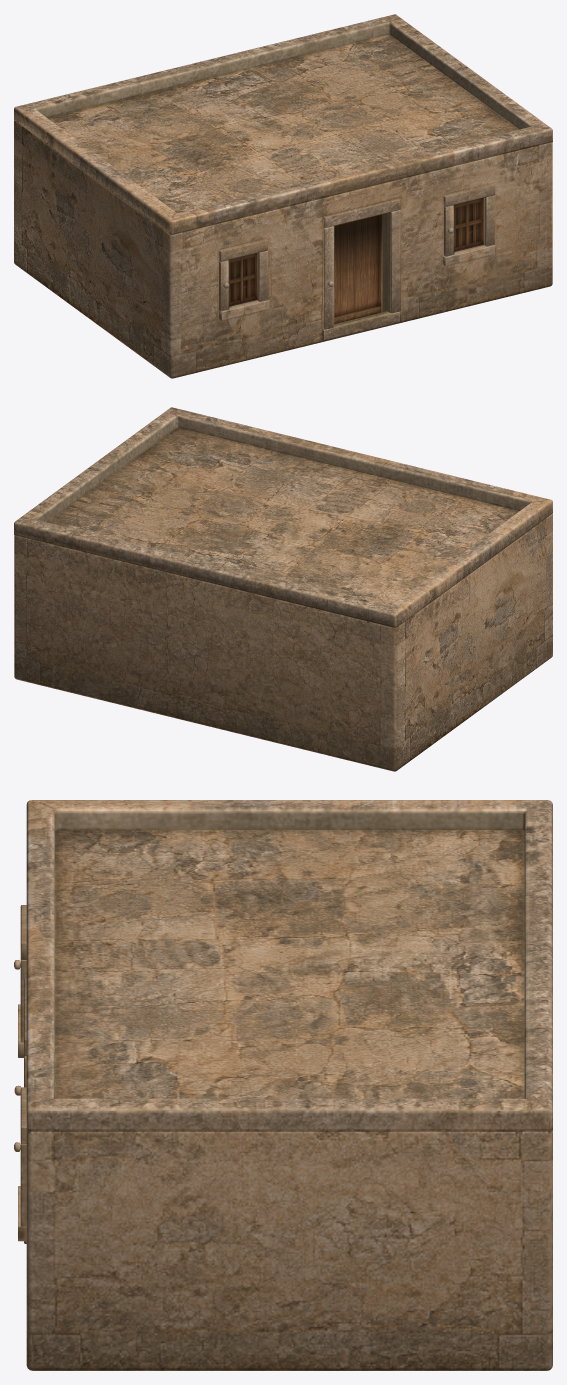
The model's file is generated-1948-04-dark-basalt-house.glb.
The picture shows the model from 3 angles, top to bottom: view 1: azimuth 30°, elevation 25°; view 2: azimuth 150°, elevation 25°; view 3: azimuth 270°, elevation 25°; orthographic projection. The views are drawn at different scales.
Parts seen in each view (by area): view 1: tripo_node_7f81c3e1-41c7-4356-81c7-5c8beed9ce47; view 2: tripo_node_7f81c3e1-41c7-4356-81c7-5c8beed9ce47; view 3: tripo_node_7f81c3e1-41c7-4356-81c7-5c8beed9ce47.
Boxes of the visible parts, bbox=[...] form: tripo_node_7f81c3e1-41c7-4356-81c7-5c8beed9ce47: bbox=[14, 14, 552, 378]; tripo_node_7f81c3e1-41c7-4356-81c7-5c8beed9ce47: bbox=[14, 407, 552, 771]; tripo_node_7f81c3e1-41c7-4356-81c7-5c8beed9ce47: bbox=[14, 800, 552, 1370].
Size of the model in its own units: 0.9995 by 0.395 by 0.7319.
1 material, 1 textured.
